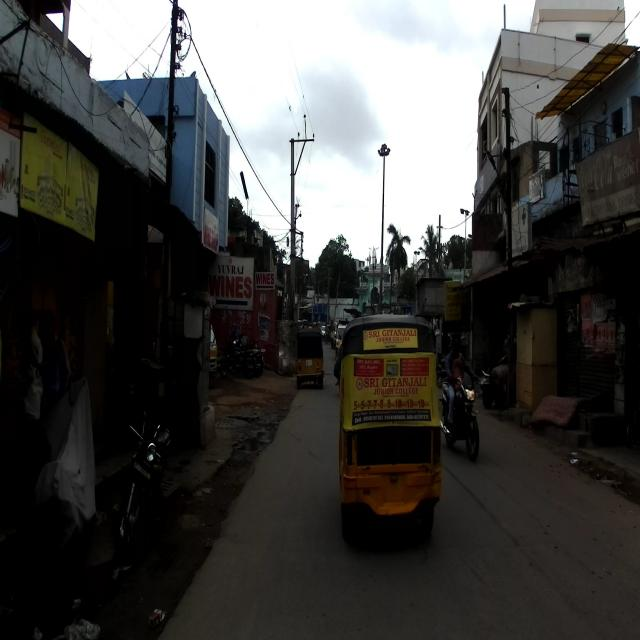autorickshaw: (337, 312, 443, 547)
motorcycle_Honda: (438, 370, 479, 463)
motorcycle_TVS: (105, 390, 173, 580)
